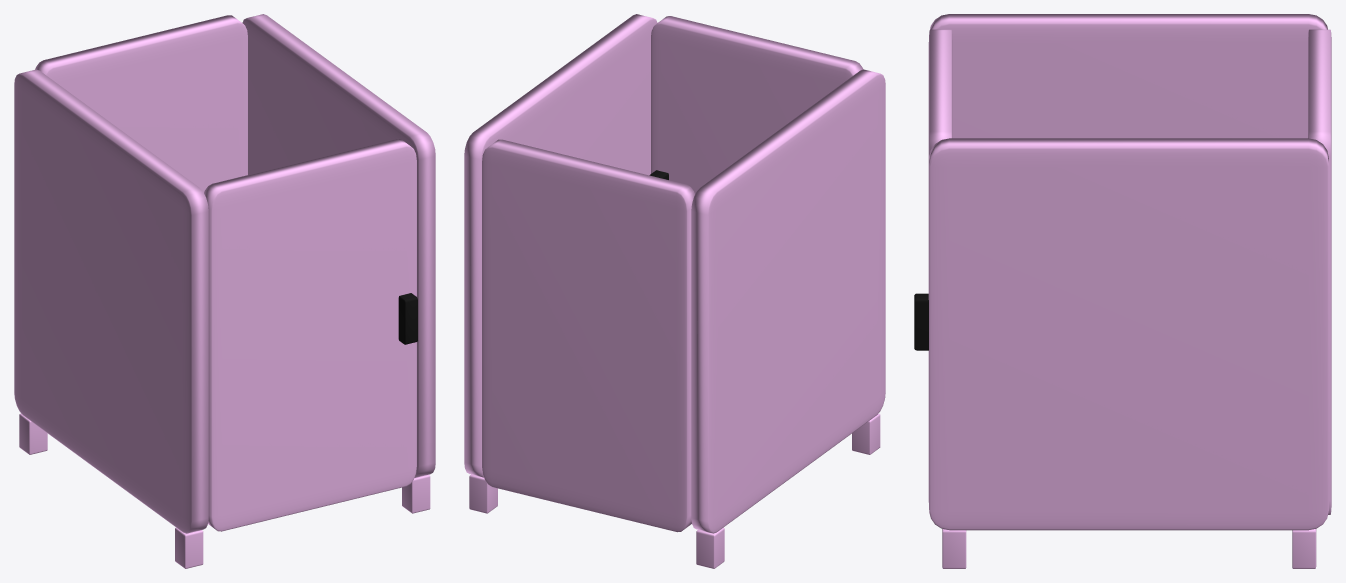
File: Stalls_Bathroom.fbx
3 renders of one model, left to right at view 1: azimuth 30°, elevation 25°; view 2: azimuth 150°, elevation 25°; view 3: azimuth 270°, elevation 25°, orthographic. The views are drawn at different scales.
Parts seen in each view (by area): view 1: Door, Wall, Wall.001, Back, Stall Stand, Handle.011, Stall Stand.001, Stall Stand.002; view 2: Back, Wall, Door, Wall.001, Stall Stand.002, Stall Stand.003, Stall Stand; view 3: Wall.001, Wall, Back, Door, Stall Stand.001, Stall Stand.003, Handle.011.
Part boxes in pixels (x1,y1,x2,y2): Door: (204,138,416,531); Wall: (14,69,208,533); Wall.001: (242,14,435,477); Back: (35,15,247,192); Stall Stand: (175,527,203,568); Handle.011: (398,293,417,344); Stall Stand.001: (402,474,430,513); Stall Stand.002: (19,413,47,454); Back: (482,139,694,532); Wall: (691,69,885,533); Door: (651,16,863,193); Wall.001: (464,14,657,477); Stall Stand.002: (696,527,724,568); Stall Stand.003: (469,474,497,513); Stall Stand: (852,413,880,454); Wall.001: (929,138,1328,530); Wall: (930,14,1327,138); Back: (1308,29,1331,514); Door: (928,29,952,514); Stall Stand.001: (942,529,966,568); Stall Stand.003: (1292,529,1316,568); Handle.011: (914,293,928,350).
Size of the model in its own units: 58.71 by 85.69 by 76.97.
